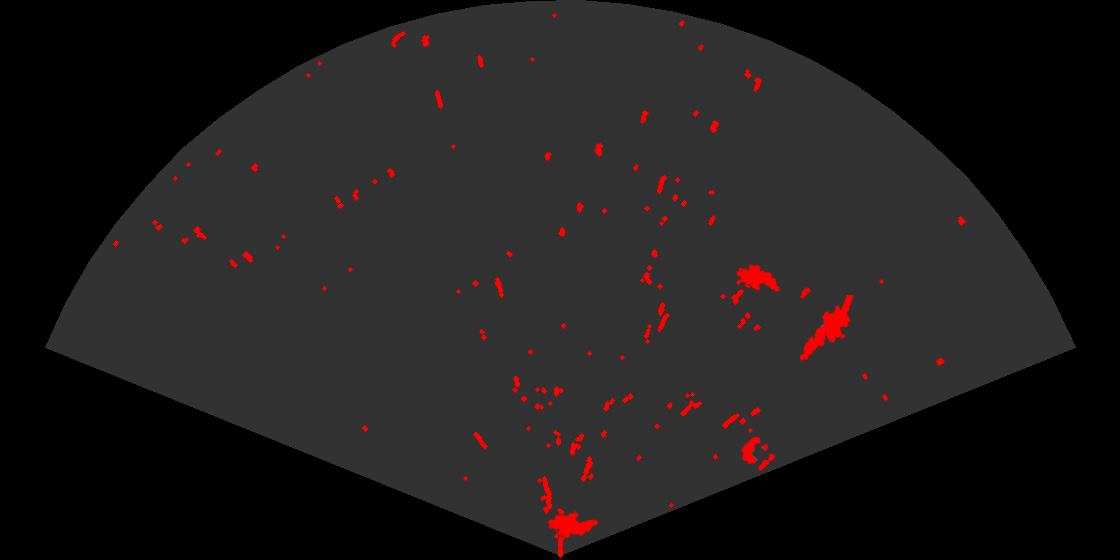AUV: (546, 511, 600, 540), (735, 263, 781, 293)
ball: (740, 435, 777, 472)
frogman: (798, 295, 855, 363)
